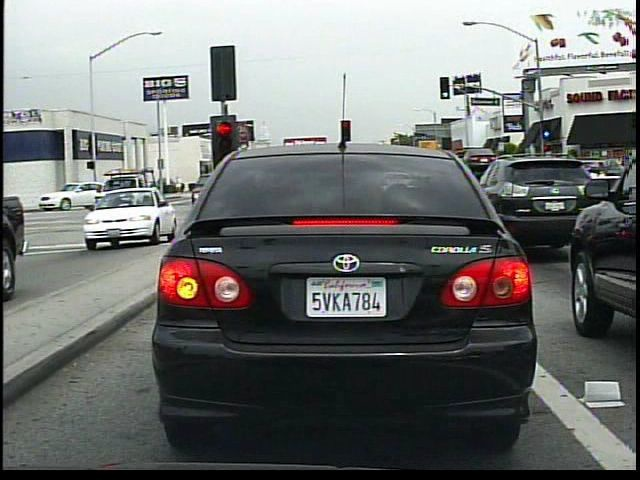person: (176, 174, 186, 194)
